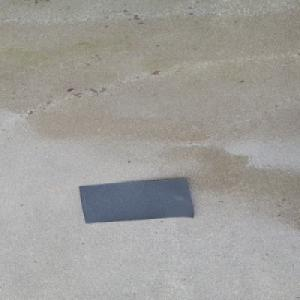PaintChip: (79, 177, 196, 224)
